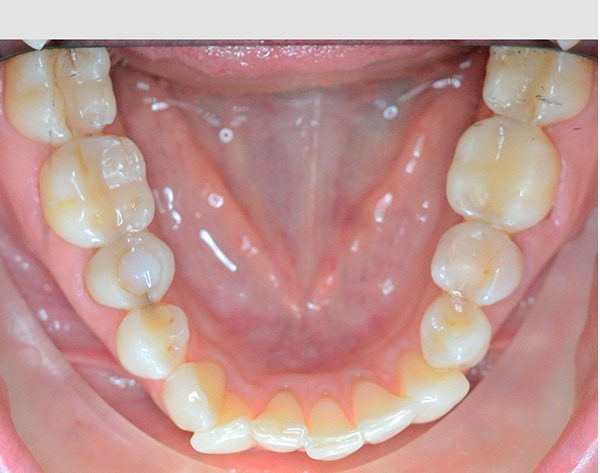LL1BC_healthy: (423, 300, 489, 366)
LL1M_healthy: (448, 123, 560, 227)
LL2BC_healthy: (432, 227, 519, 303)
LL2M_decay: (485, 49, 593, 121)
LLCI_healthy: (309, 401, 361, 460)
LLC_healthy: (403, 359, 468, 420)
LLLI_healthy: (355, 378, 413, 441)
LR1BC_healthy: (120, 306, 188, 376)
LR1M_healthy: (47, 141, 155, 236)
LR2BC_healthy: (85, 238, 175, 298)
LR2M_healthy: (12, 67, 116, 136)
LRCI_healthy: (255, 391, 305, 452)
LRC_healthy: (168, 361, 223, 423)
LRLI_healthy: (203, 403, 253, 454)
